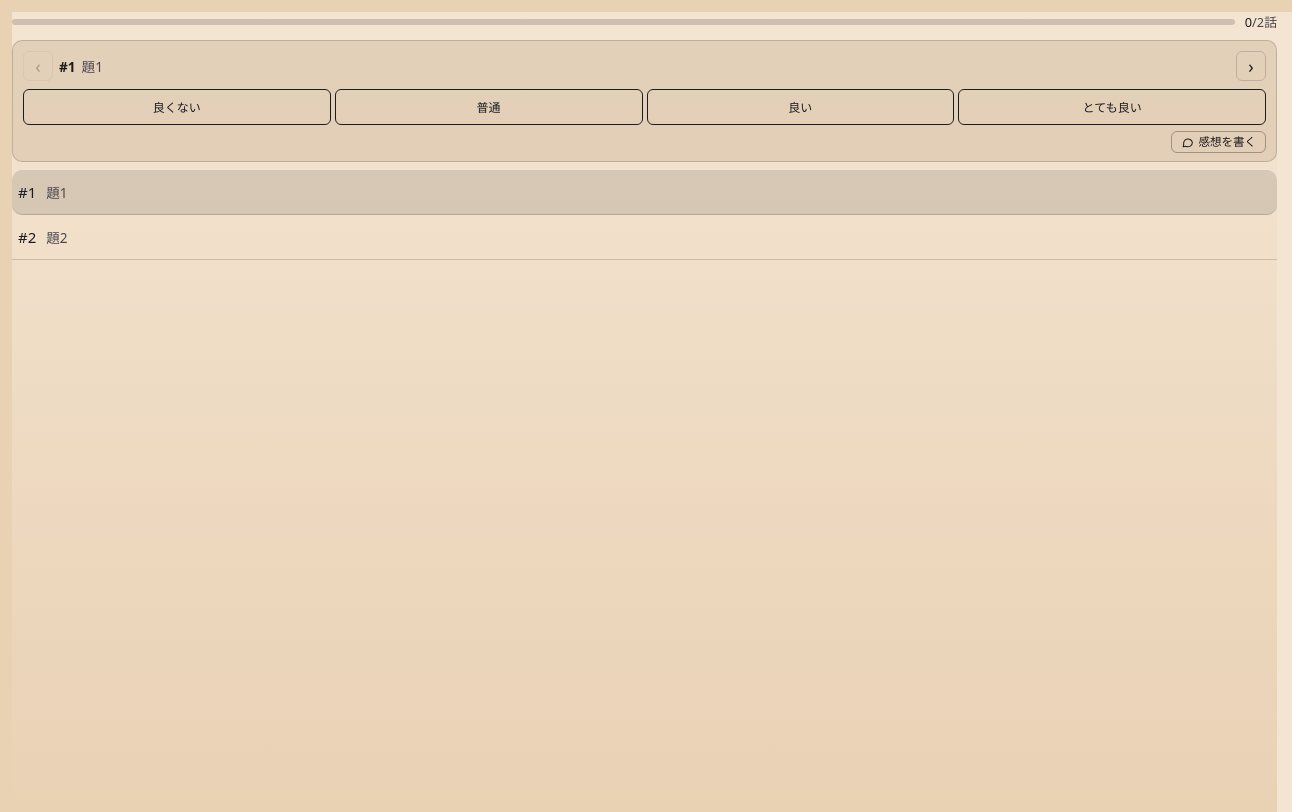
EpisodeRecorder: a comment on an episode, only for those who want to write one › choosing again an episode rated on this screen changes its rating instead of adding a record
Click the button "普通". click: (489, 108)
box: [335,90,643,126]
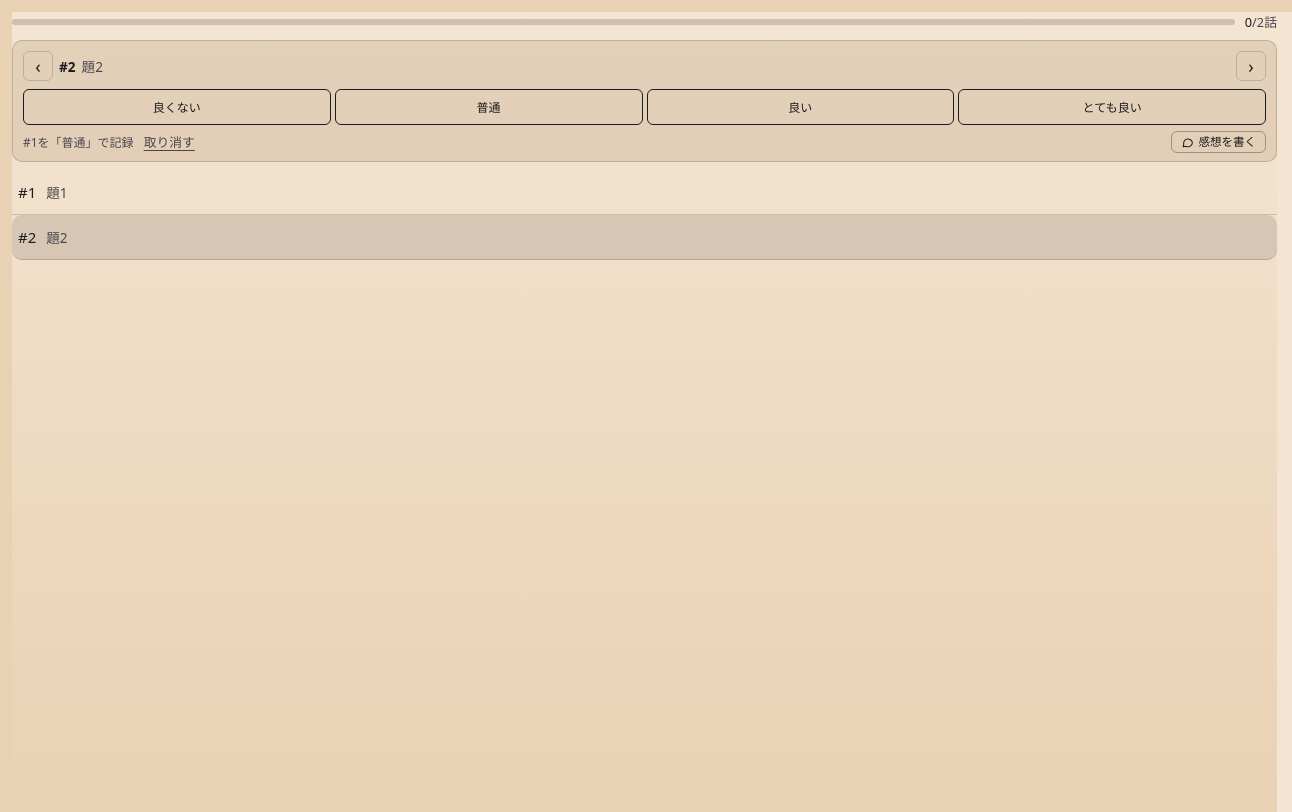
Click the button named "前の話". click: (38, 66)
box: [23,52,53,82]
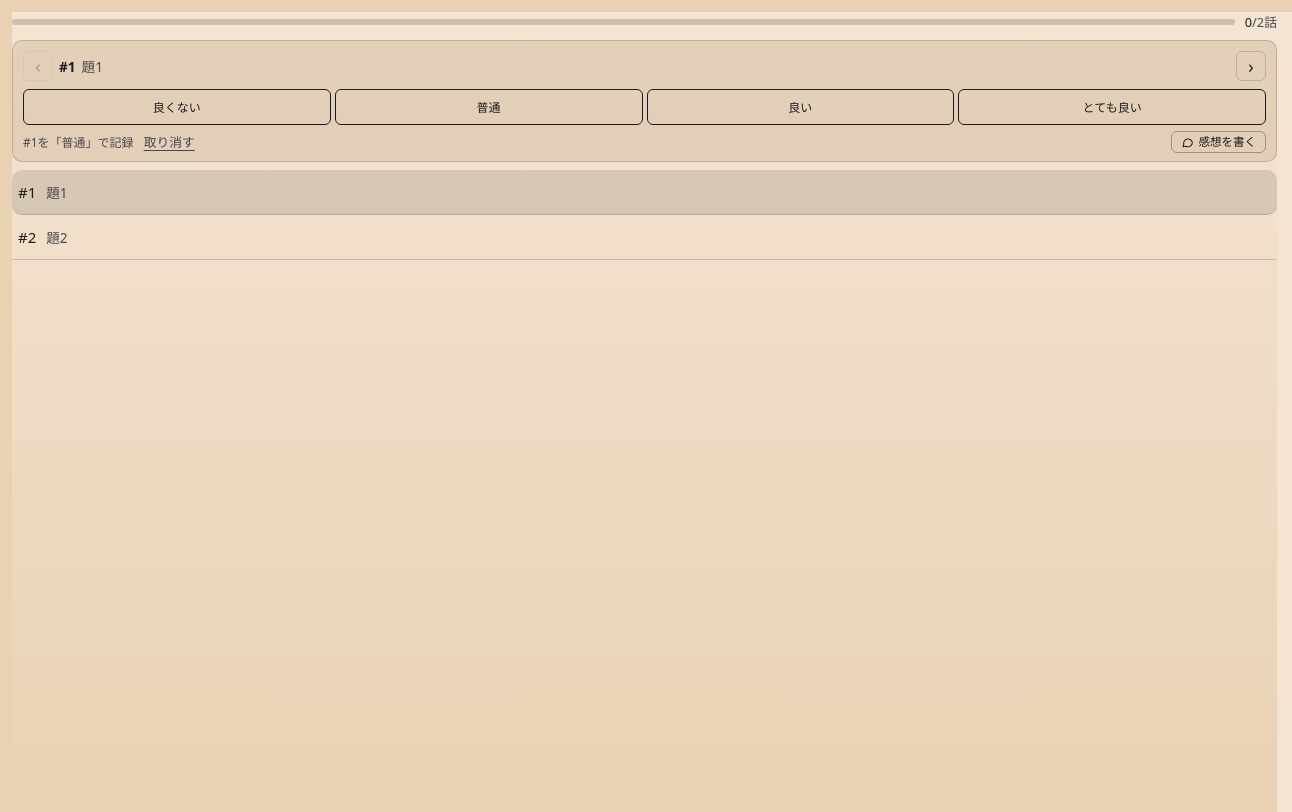
Click the button "良い". click: (800, 108)
box: [646,90,954,126]
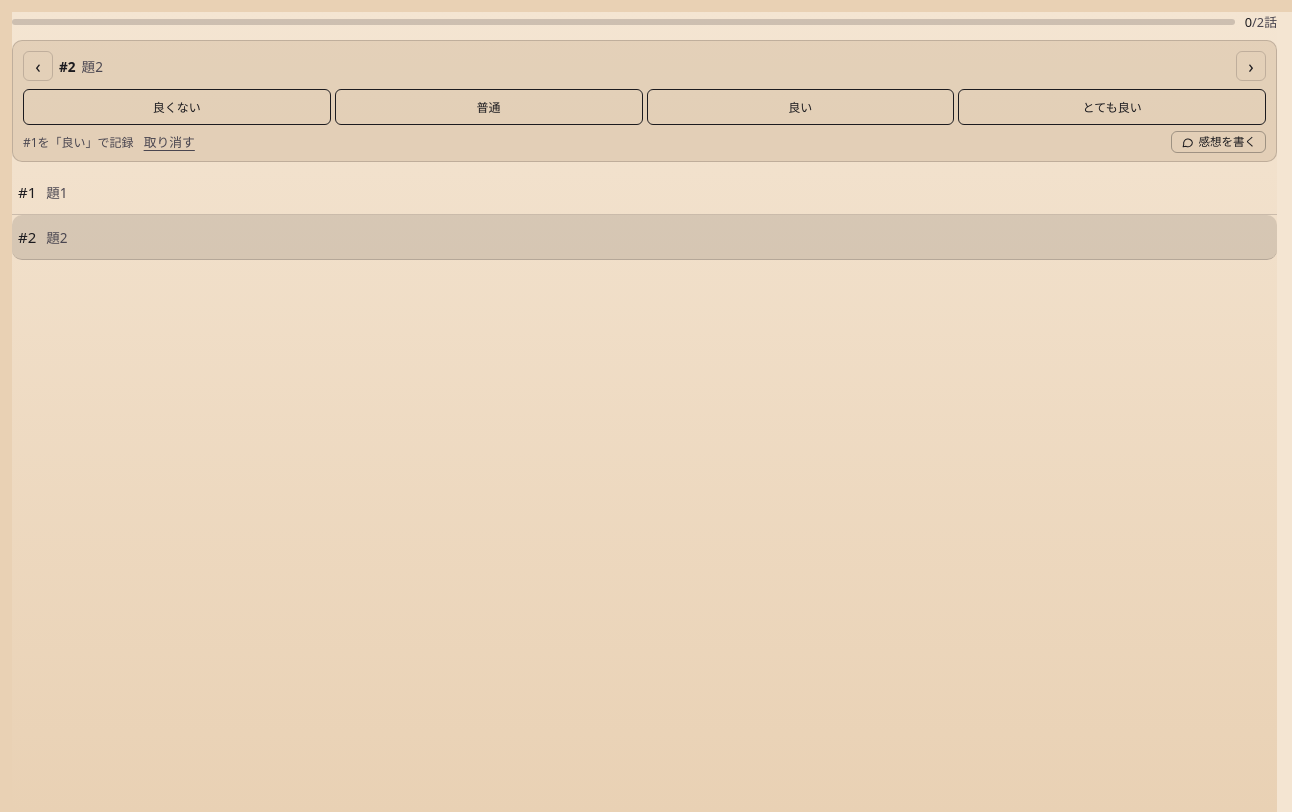
Result: the text "#1を「良い」で記録" is shown at [23,134,134,151]
